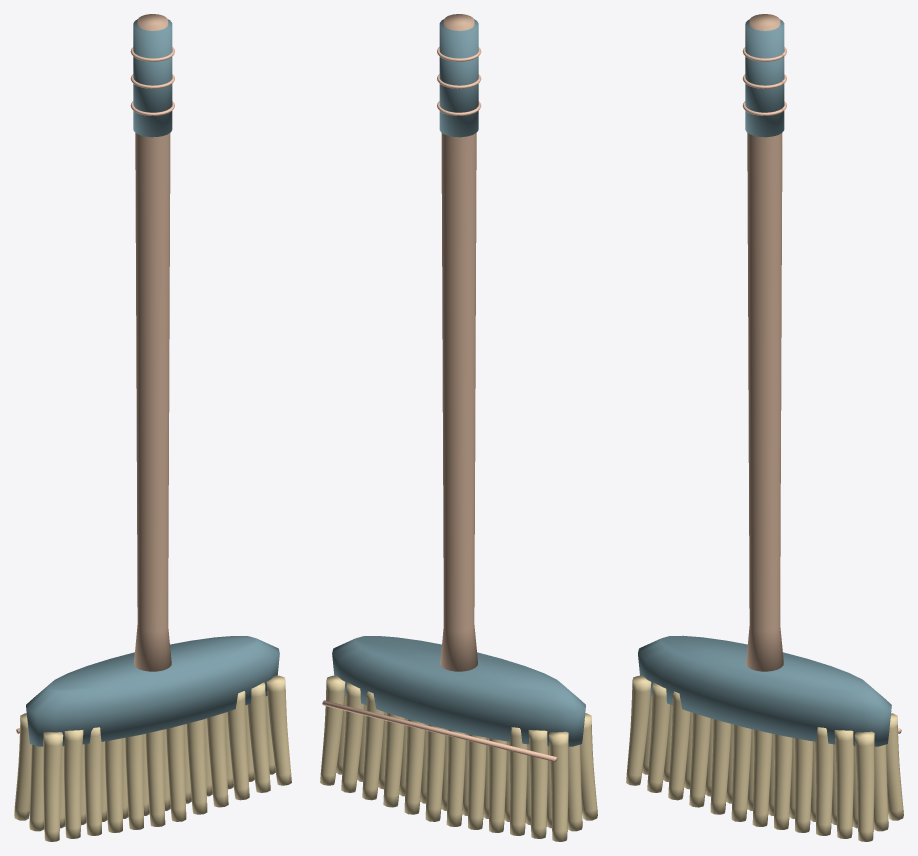
File: broom.glb
The picture shows the model from 3 angles, left to right: view 1: azimuth 30°, elevation 25°; view 2: azimuth 150°, elevation 25°; view 3: azimuth 330°, elevation 25°; orthographic projection.
Parts seen in each view (by area): view 1: broom; view 2: broom; view 3: broom.
Part boxes in pixels (<box>): broom: <box>14,14,291,841</box>; broom: <box>320,14,597,841</box>; broom: <box>626,14,903,841</box>.
Bounding box in the file's own units: 0.34 × 1.02 × 0.098.
